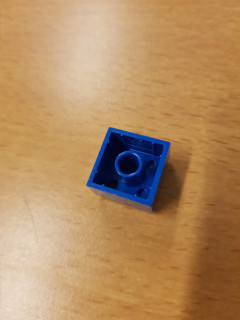2x2 blue: (84, 125, 172, 216)
